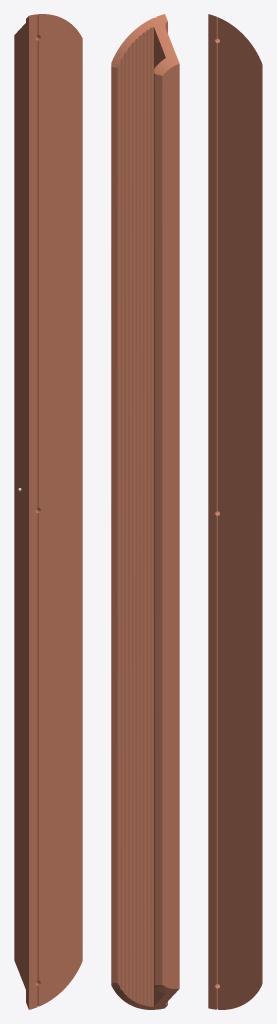
File: swallow pvd r gold.glb
3 views of the same model, side by side, from view 1: azimuth 30°, elevation 25°; view 2: azimuth 210°, elevation 25°; view 3: azimuth 330°, elevation 25° (orthographic).
Parts seen in each view (by area): view 1: CABINET_HANDLE_SWALLOW; view 2: CABINET_HANDLE_SWALLOW; view 3: CABINET_HANDLE_SWALLOW.
Part boxes in pixels (x1,y1,x2,y2): CABINET_HANDLE_SWALLOW: (14,14,82,1009); CABINET_HANDLE_SWALLOW: (111,14,179,1009); CABINET_HANDLE_SWALLOW: (208,14,262,1009).
Size of the model in its own units: 0.5618 by 9.61 by 0.335.
